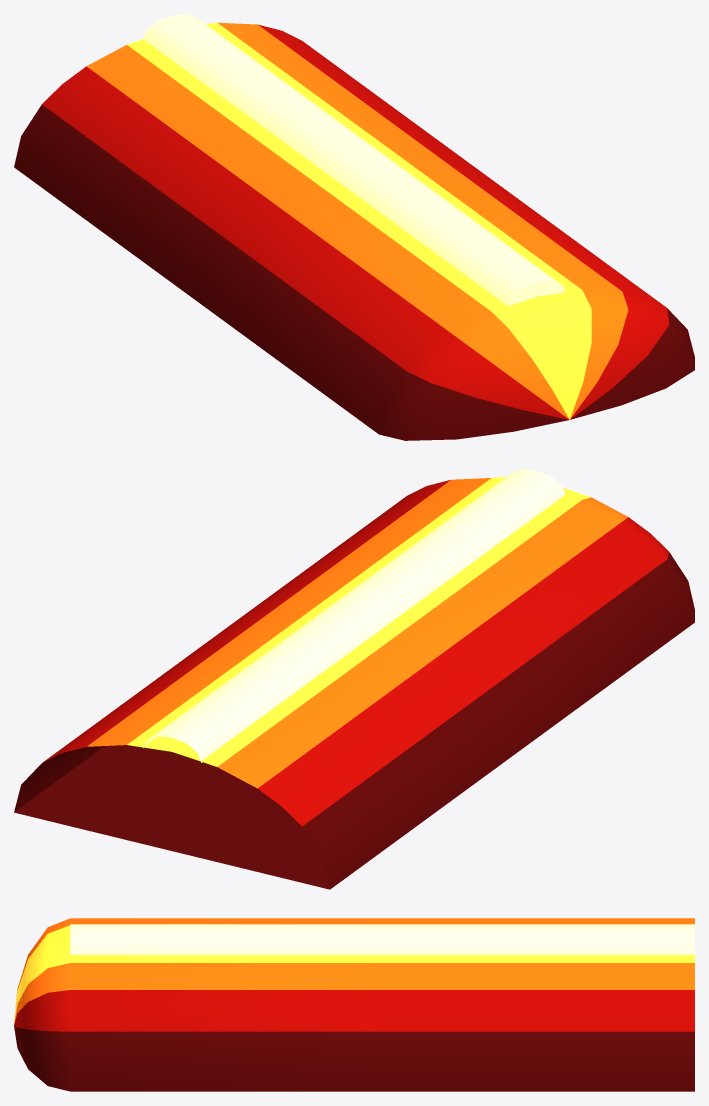
The model's file is shot_laser_289.glb.
3 views of the same model, one above another, from view 1: azimuth 30°, elevation 25°; view 2: azimuth 150°, elevation 25°; view 3: azimuth 270°, elevation 25° (orthographic). The views are drawn at different scales.
Visible parts, largest first — view 1: shot_laser_289_rod, shot_laser_289_core0; view 2: shot_laser_289_rod, shot_laser_289_core0; view 3: shot_laser_289_rod, shot_laser_289_core0.
Boxes of the visible parts, x1=… form: shot_laser_289_rod: x1=14, y1=22, x2=694, y2=440; shot_laser_289_core0: x1=143, y1=14, x2=565, y2=306; shot_laser_289_rod: x1=14, y1=477, x2=694, y2=889; shot_laser_289_core0: x1=143, y1=469, x2=565, y2=762; shot_laser_289_rod: x1=14, y1=918, x2=694, y2=1091; shot_laser_289_core0: x1=70, y1=924, x2=694, y2=954.
Size of the model in its own units: 7 by 2.4 by 15.26.
